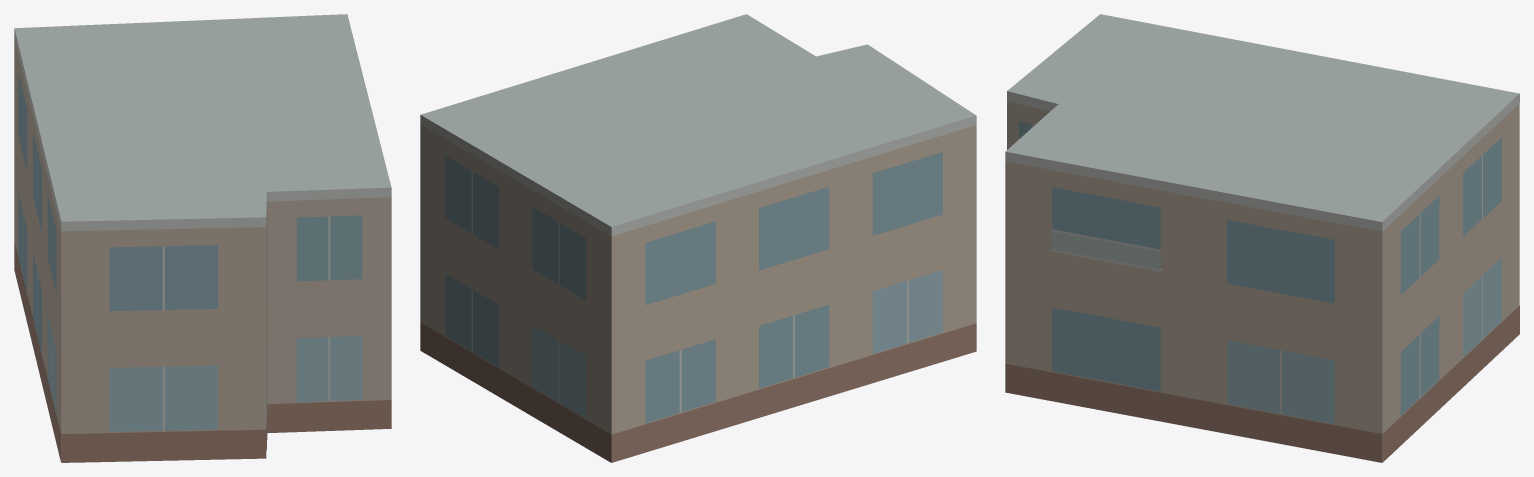
File: survey-upis-32798725.glb
The picture shows the model from 3 angles, left to right: view 1: azimuth 30°, elevation 25°; view 2: azimuth 150°, elevation 25°; view 3: azimuth 270°, elevation 25°; orthographic projection. The views are drawn at different scales.
Parts seen in each view (by area): view 1: survey-upis-32798725.tmp; view 2: survey-upis-32798725.tmp; view 3: survey-upis-32798725.tmp.
Part boxes in pixels (x1,y1,x2,y2): survey-upis-32798725.tmp: [14, 14, 391, 462]; survey-upis-32798725.tmp: [420, 14, 976, 462]; survey-upis-32798725.tmp: [1005, 14, 1519, 462].
Size of the model in its own units: 11.32 by 6.1 by 11.82.
